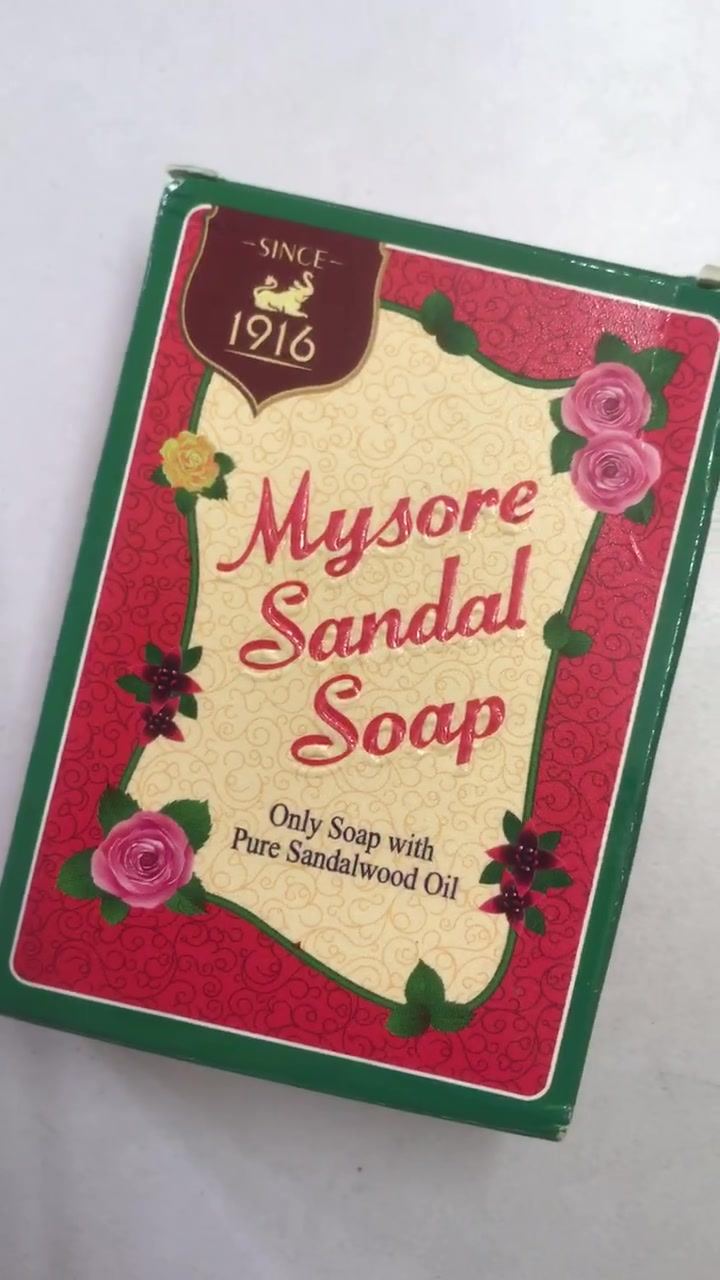mysore sandal soap: (3, 166, 720, 1141)
